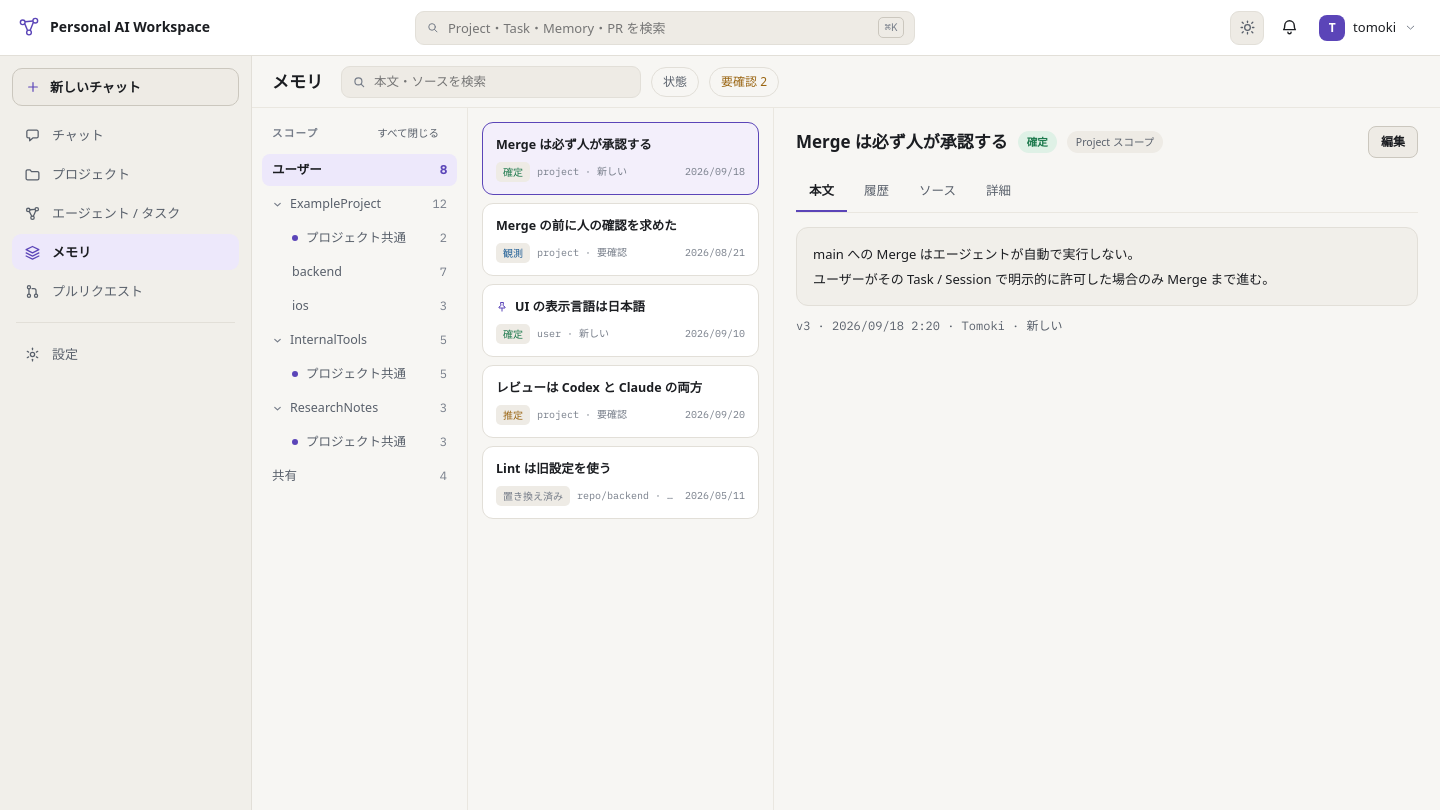
Memory screen › edits into a new version with the version it started from
This screenshot has width=1440, height=810.
Click the button "編集" at coordinates (1393, 142), box [1368, 126, 1418, 158]
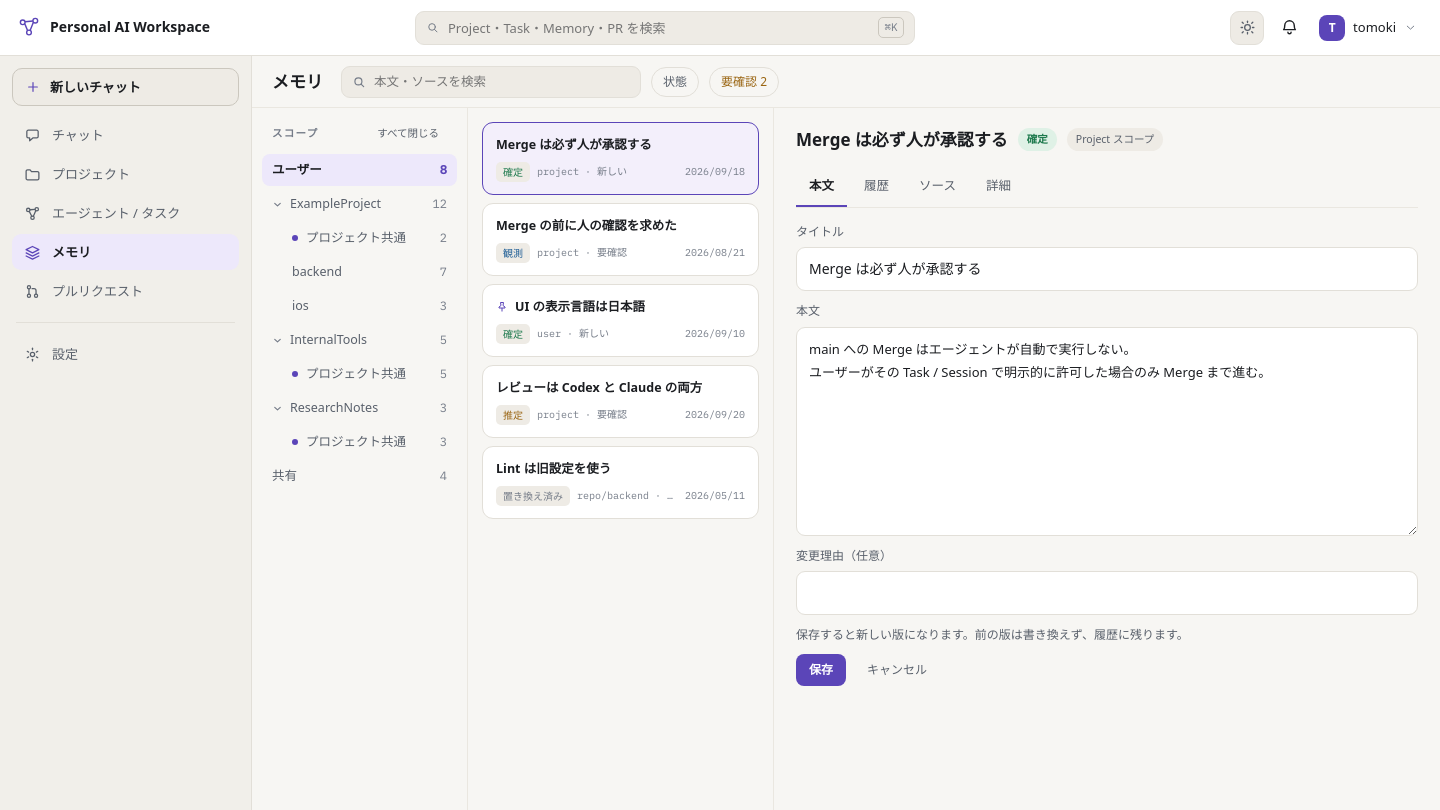
Replace the text in the text box labelled "本文" with "Merge は人だけが行う。" at coordinates (1107, 431), box [796, 327, 1418, 536]
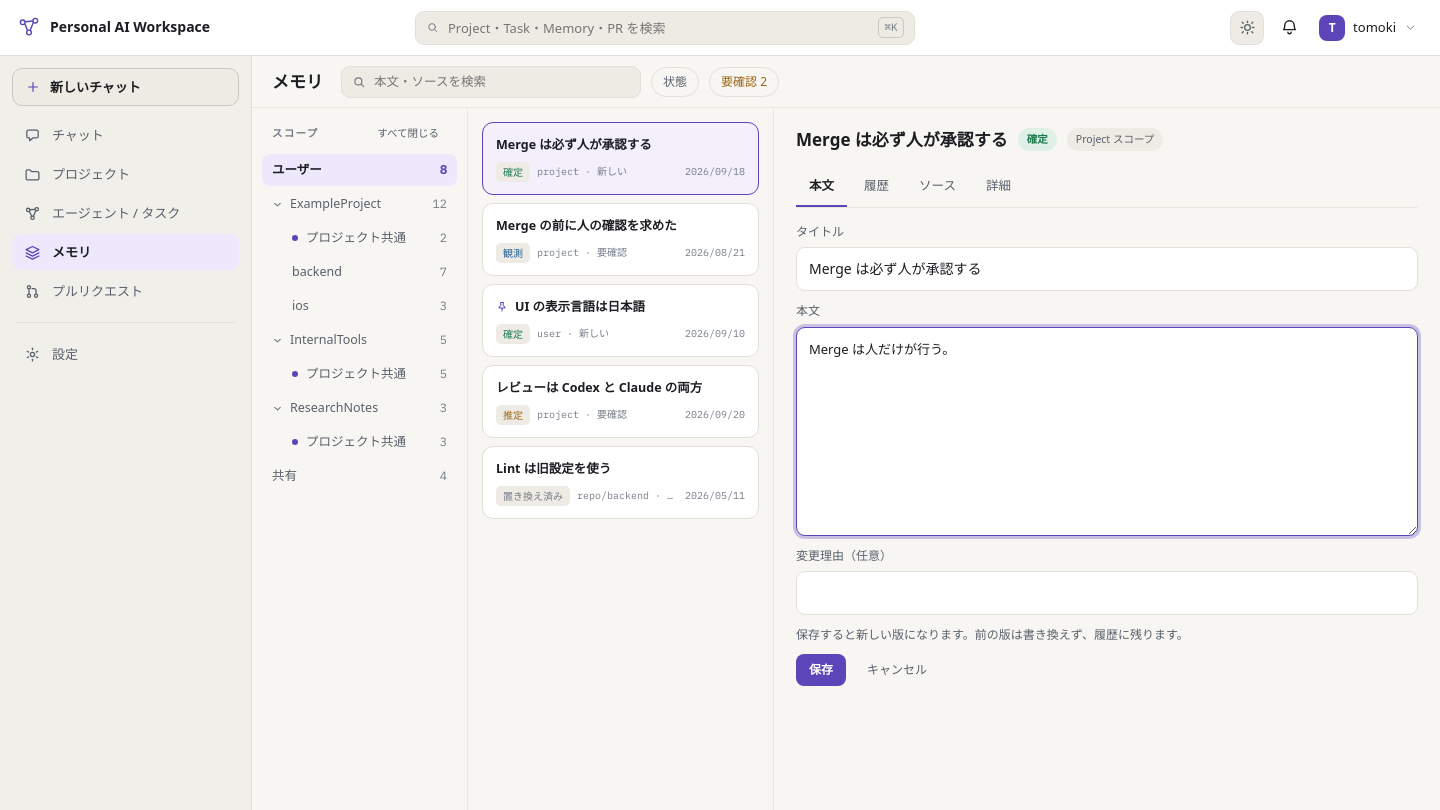
Type "簡潔にする" into the field labelled "変更理由（任意）" at coordinates (1107, 593), box [796, 571, 1418, 615]
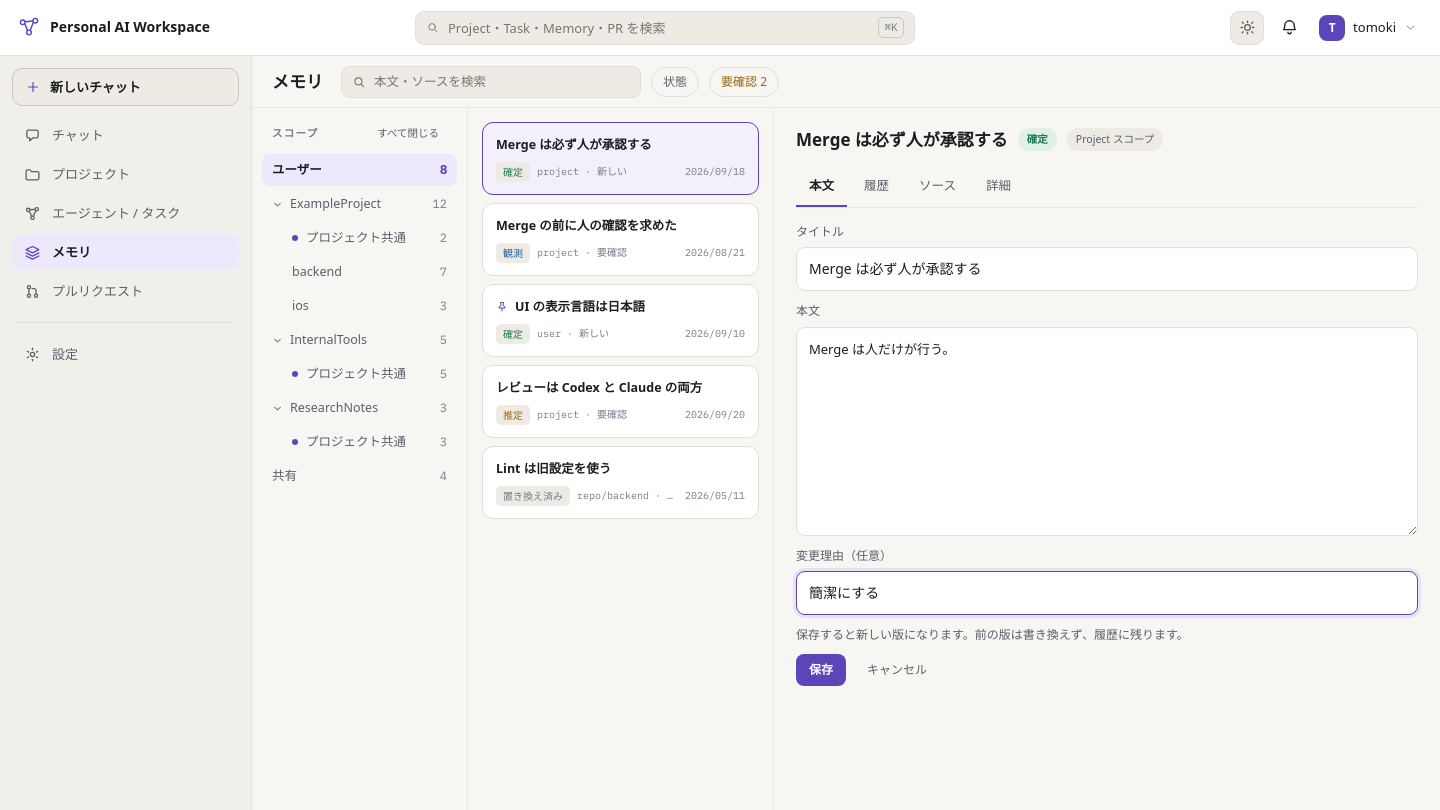
Click the button "保存" at coordinates (821, 670), box [796, 654, 846, 686]
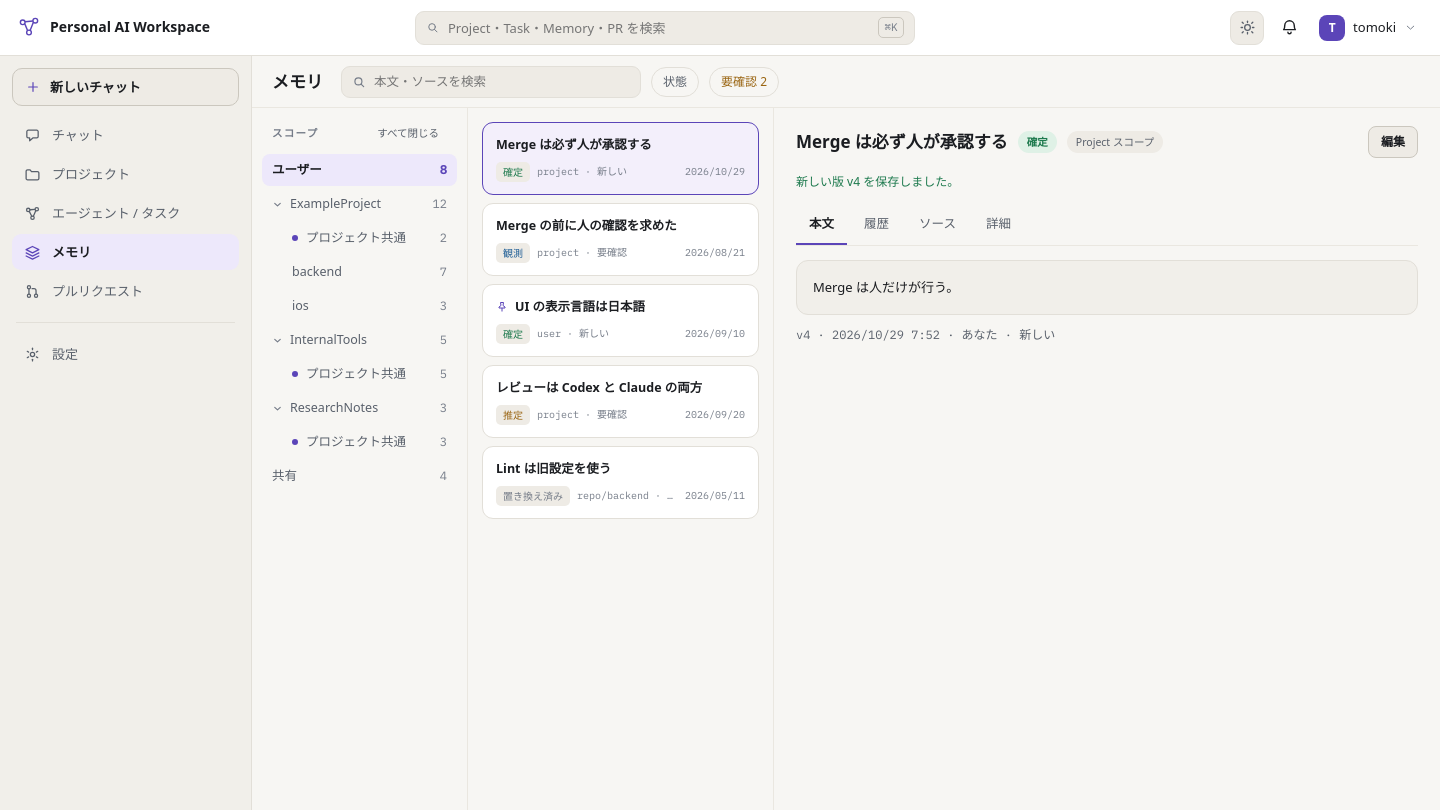
Result: the text "新しい版 v4 を保存しました。" is shown at [796, 173, 959, 190]
Result: the text "Merge は人だけが行う。" is shown at [796, 260, 1418, 315]
